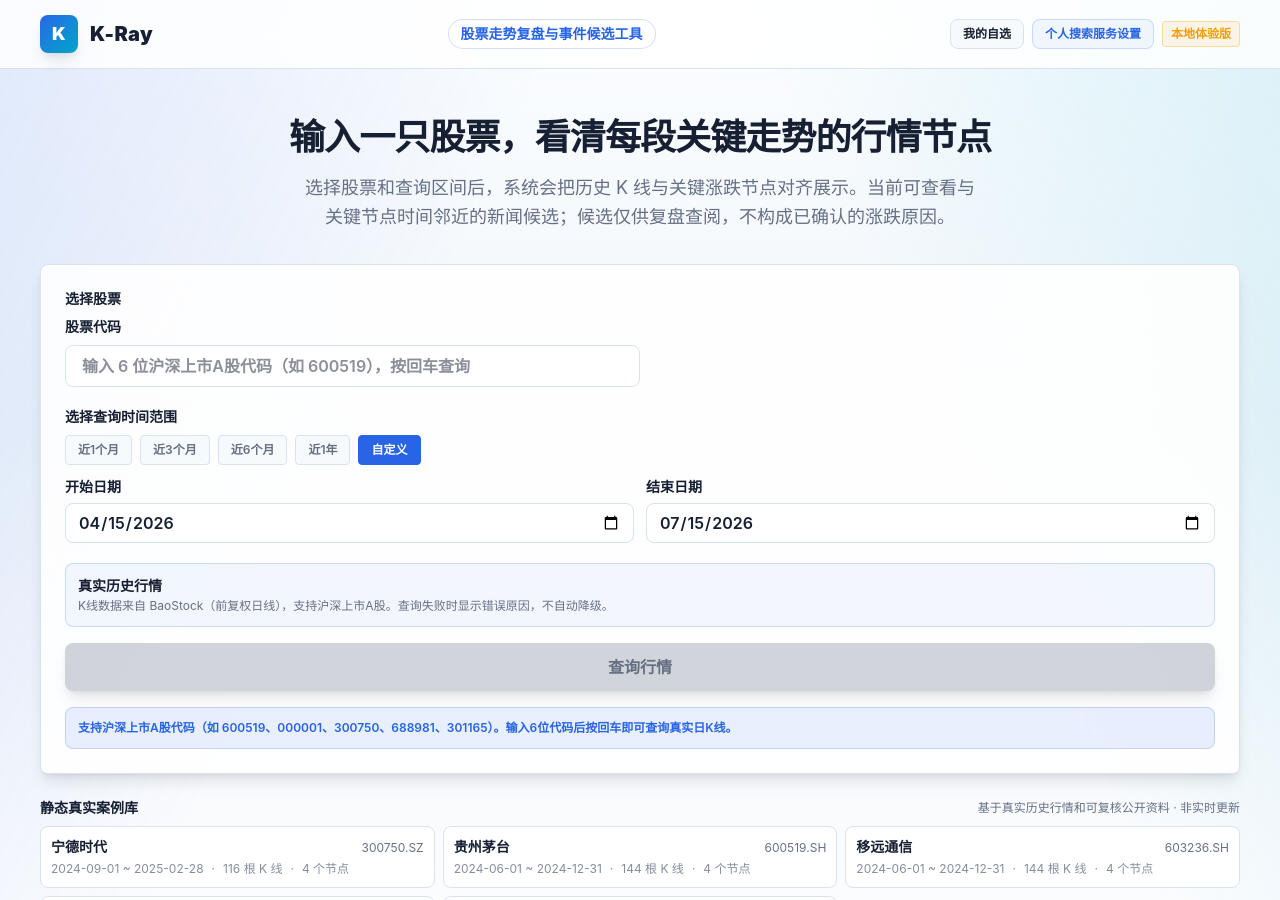
Test: 第八阶段前端测试 - 全A股日K查询 › 输入无法识别的6位代码显示错误
Type "200000" into the field with placeholder "输入 6 位沪深上市A股代码（如 600519），按回车查询".
click(352, 366); type("200000")  # box left=65, top=344, right=640, bottom=386
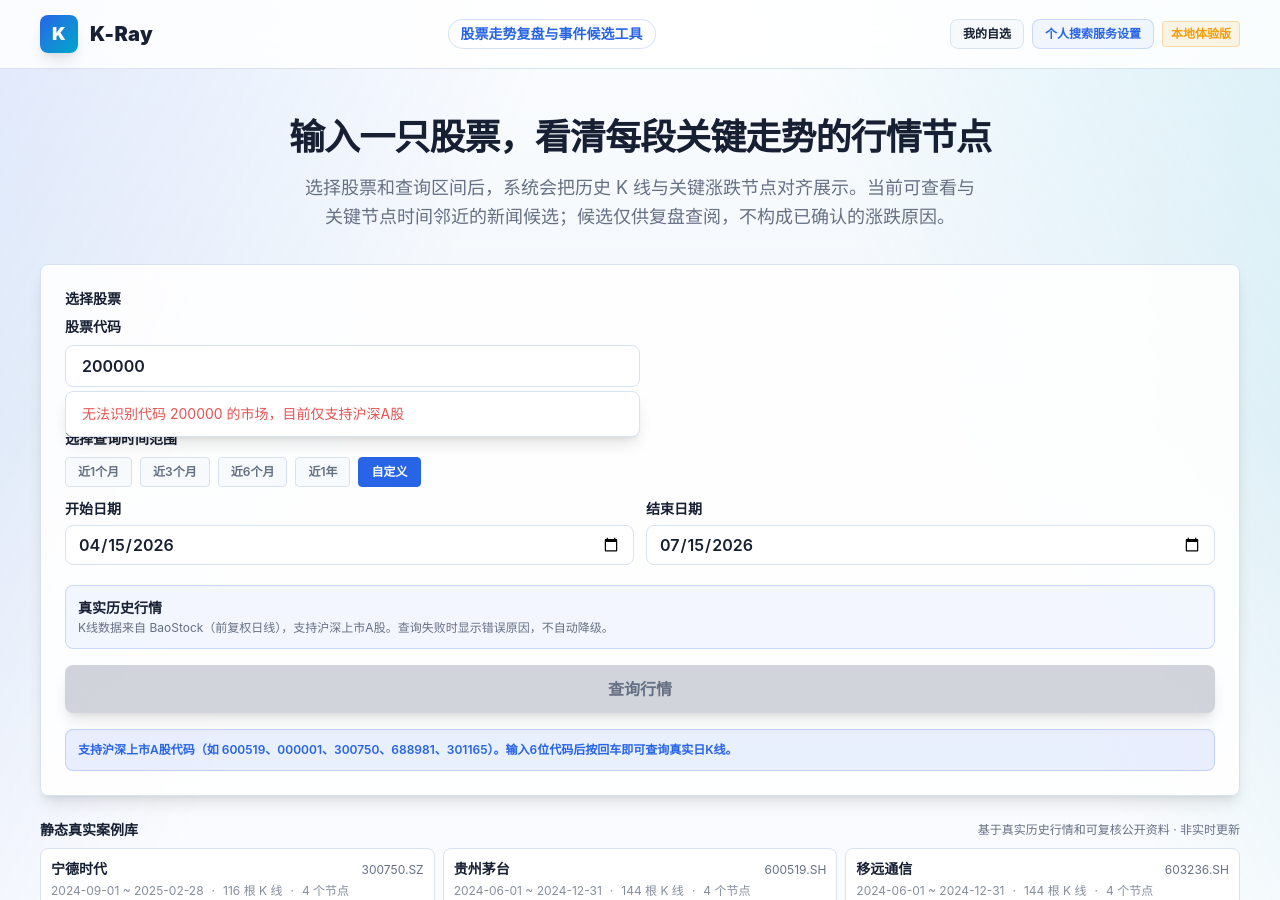
Check: the text "无法识别代码 200000 的市场，目前仅支持沪深A股" is shown, box left=82, top=404, right=404, bottom=422
